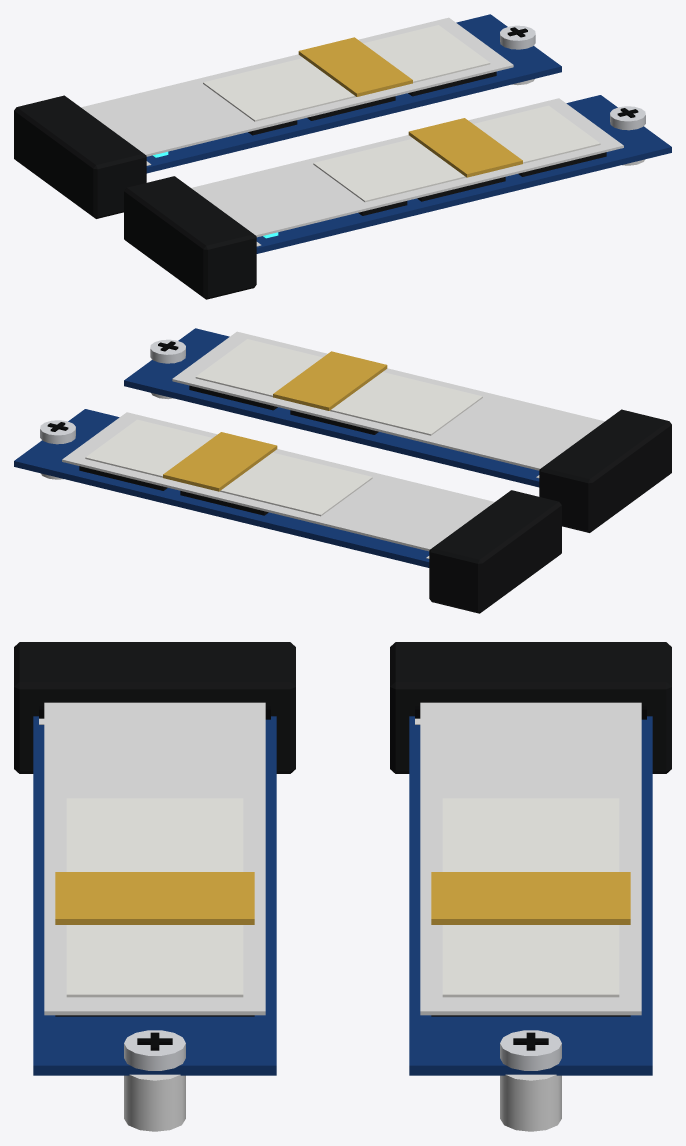
The model's file is hwm_sto_sas_4tb.glb.
3 views of the same model, one above another, from view 1: azimuth 30°, elevation 25°; view 2: azimuth 150°, elevation 25°; view 3: azimuth 270°, elevation 25° (orthographic). The views are drawn at different scales.
Visible parts, largest first — view 1: SSD_0, SSD_1, Slots, Screw_0, Screw_1; view 2: SSD_1, SSD_0, Slots, Screw_1, Screw_0; view 3: SSD_0, SSD_1, Slots, Screw_0, Screw_1.
Part boxes in pixels (box(x1,y1,x2,y2)): SSD_0: box(81, 14, 561, 173); SSD_1: box(191, 95, 671, 253); Slots: box(14, 45, 645, 299); Screw_0: box(500, 25, 535, 49); Screw_1: box(610, 106, 645, 130); SSD_1: box(124, 328, 604, 487); SSD_0: box(14, 409, 494, 567); Slots: box(40, 359, 671, 613); Screw_1: box(150, 339, 185, 363); Screw_0: box(40, 420, 75, 444); SSD_0: box(409, 702, 652, 1075); SSD_1: box(33, 702, 276, 1075); Slots: box(14, 642, 671, 1131); Screw_0: box(500, 1030, 561, 1070); Screw_1: box(124, 1030, 185, 1070).
Bounding box in the file's own units: 0.0855 × 0.0092 × 0.0595.
